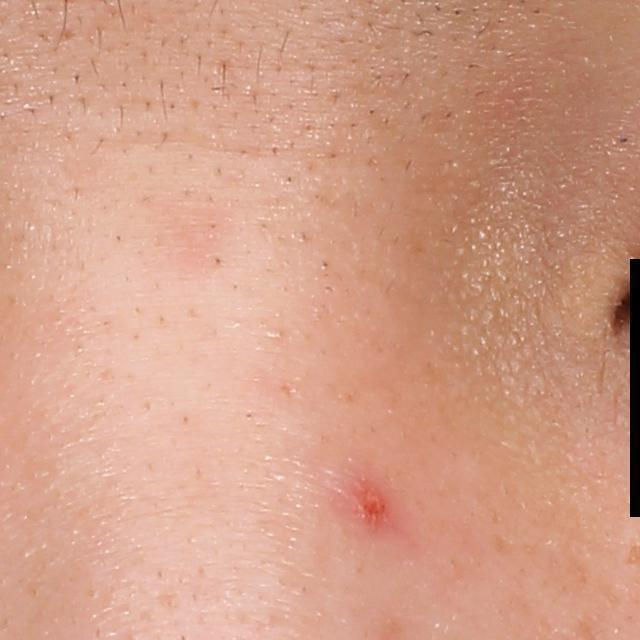papule: (350, 479, 400, 533)
